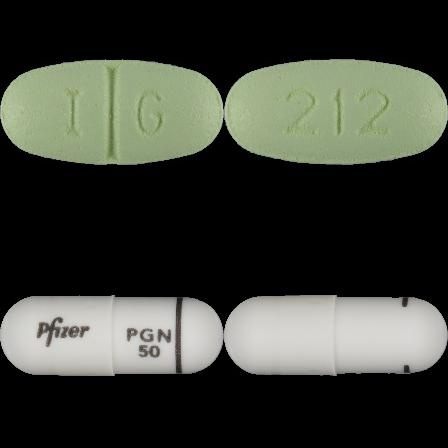52959-875: (0, 0, 224, 224)
